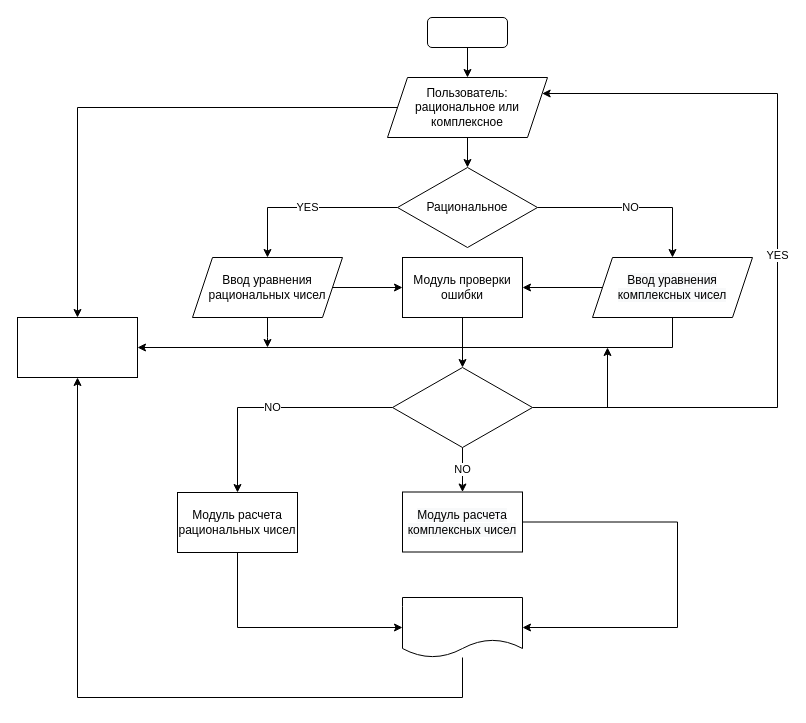
Some shapes in this 806 by 723 pixel diagram are drawn without their labels. Here are the shapes that lost their labels. From the top down, the box of each, then its label:
(426, 16, 508, 48): Start
(16, 316, 138, 378): Модуль логирования
(392, 366, 532, 448): Error?
(402, 596, 522, 658): вывод результата
